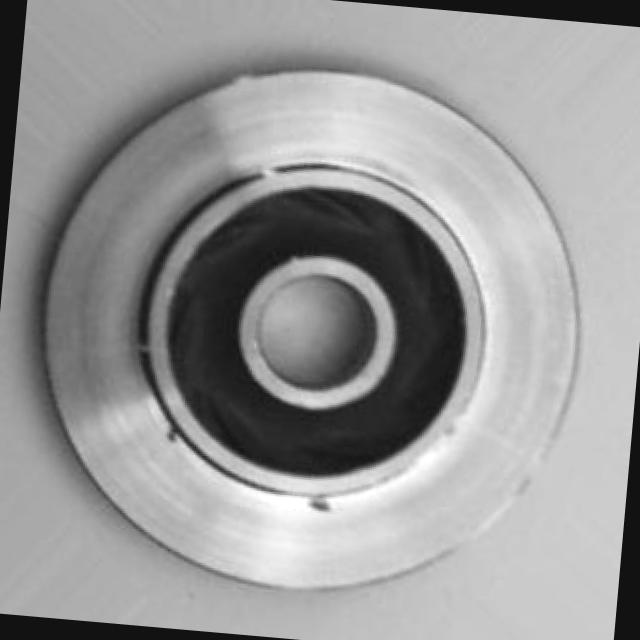Defect: (304, 486, 335, 516)
